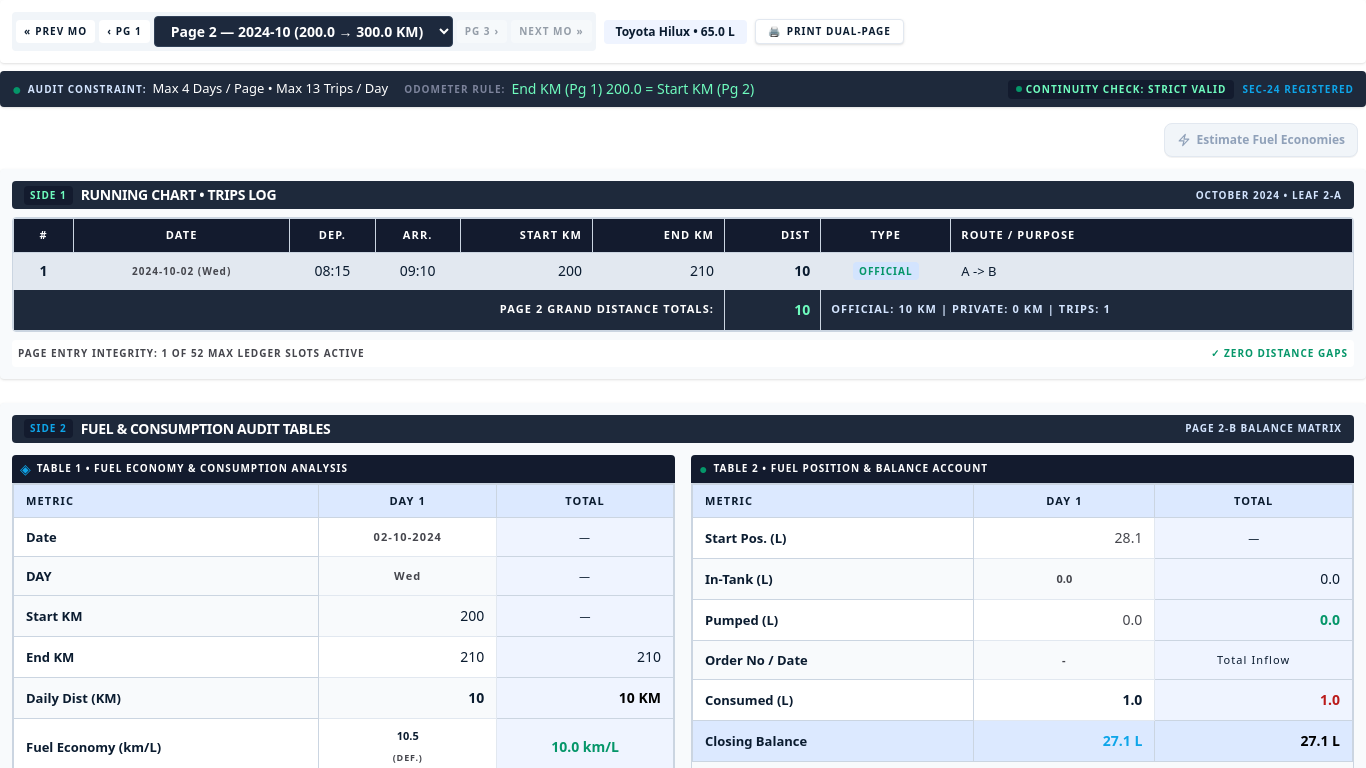
Test case: BookLedgerView - Full-Width Stack Ledger (Phase 3 #03) › allows moving between pages via Prev/Next
Check: the dropdown named "Select Page" shows "Page 2 — 2024-10 (200.0 → 300.0 KM)", box [154,16,453,47]
Click the button with aria-label "Previous Page". click: [124, 32]
box: [99,20,150,43]
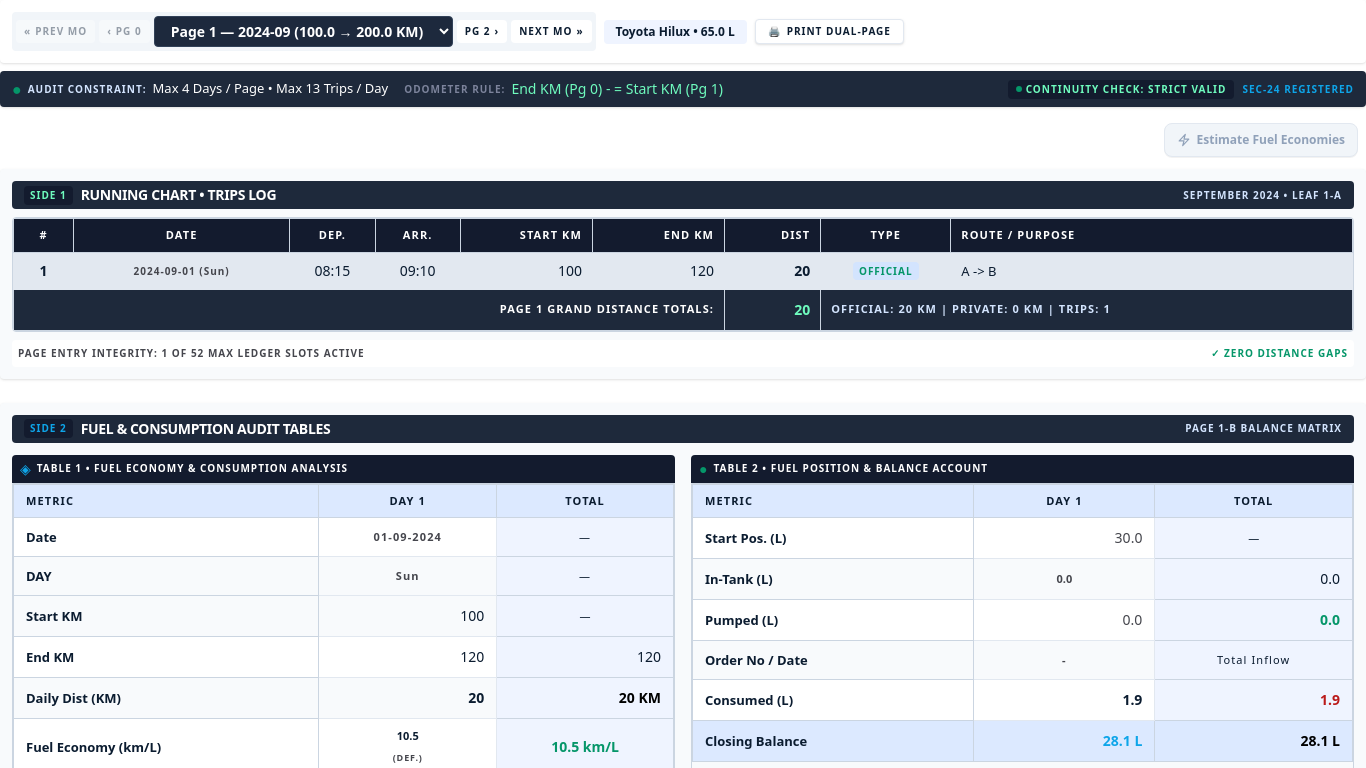
Check: the dropdown named "Select Page" shows "Page 1 — 2024-09 (100.0 → 200.0 KM)", box [154,16,453,47]
Click the button with aria-label "Next Page". click: [482, 32]
box: [457,20,507,43]
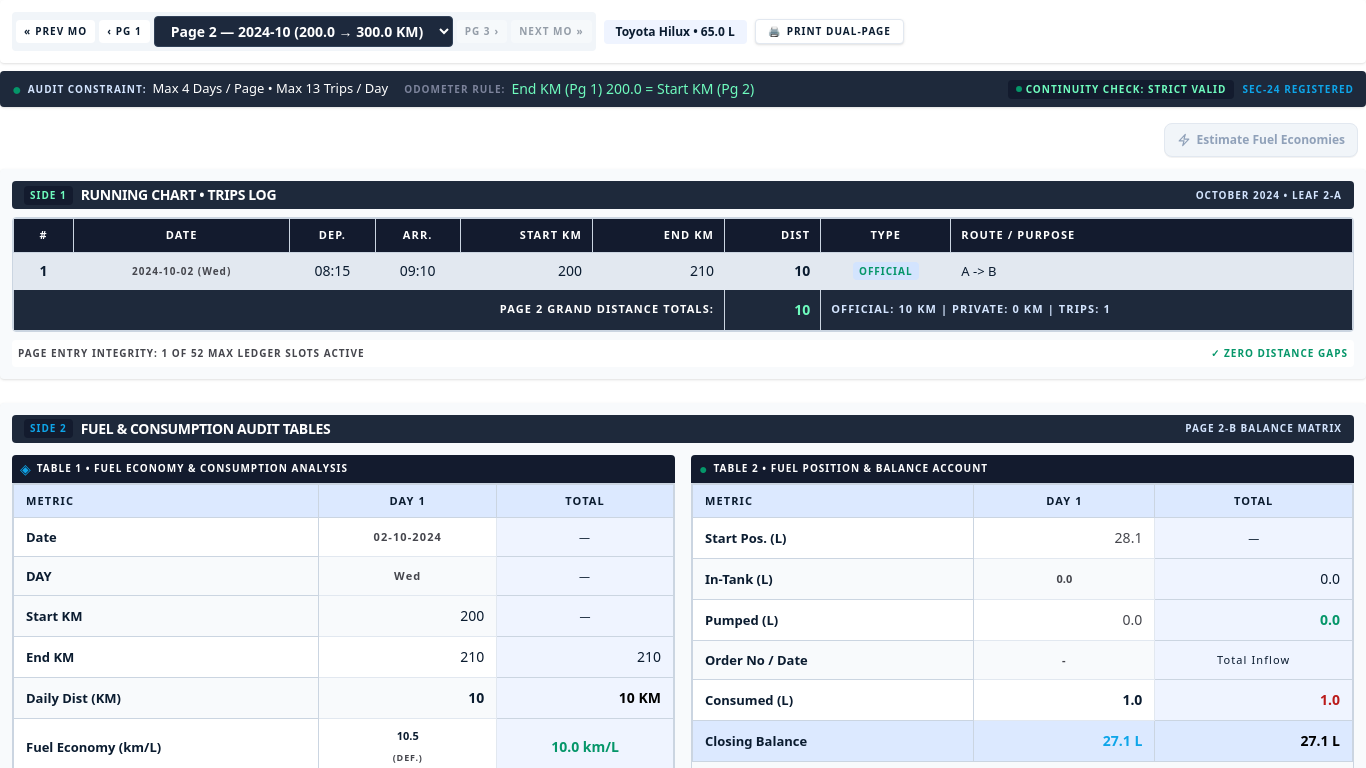
Check: the dropdown named "Select Page" shows "Page 2 — 2024-10 (200.0 → 300.0 KM)", box [154,16,453,47]
